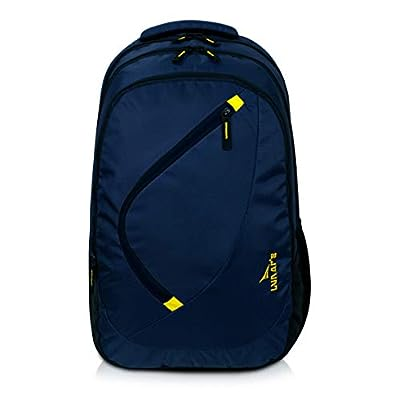backpack: (87, 19, 311, 371)
